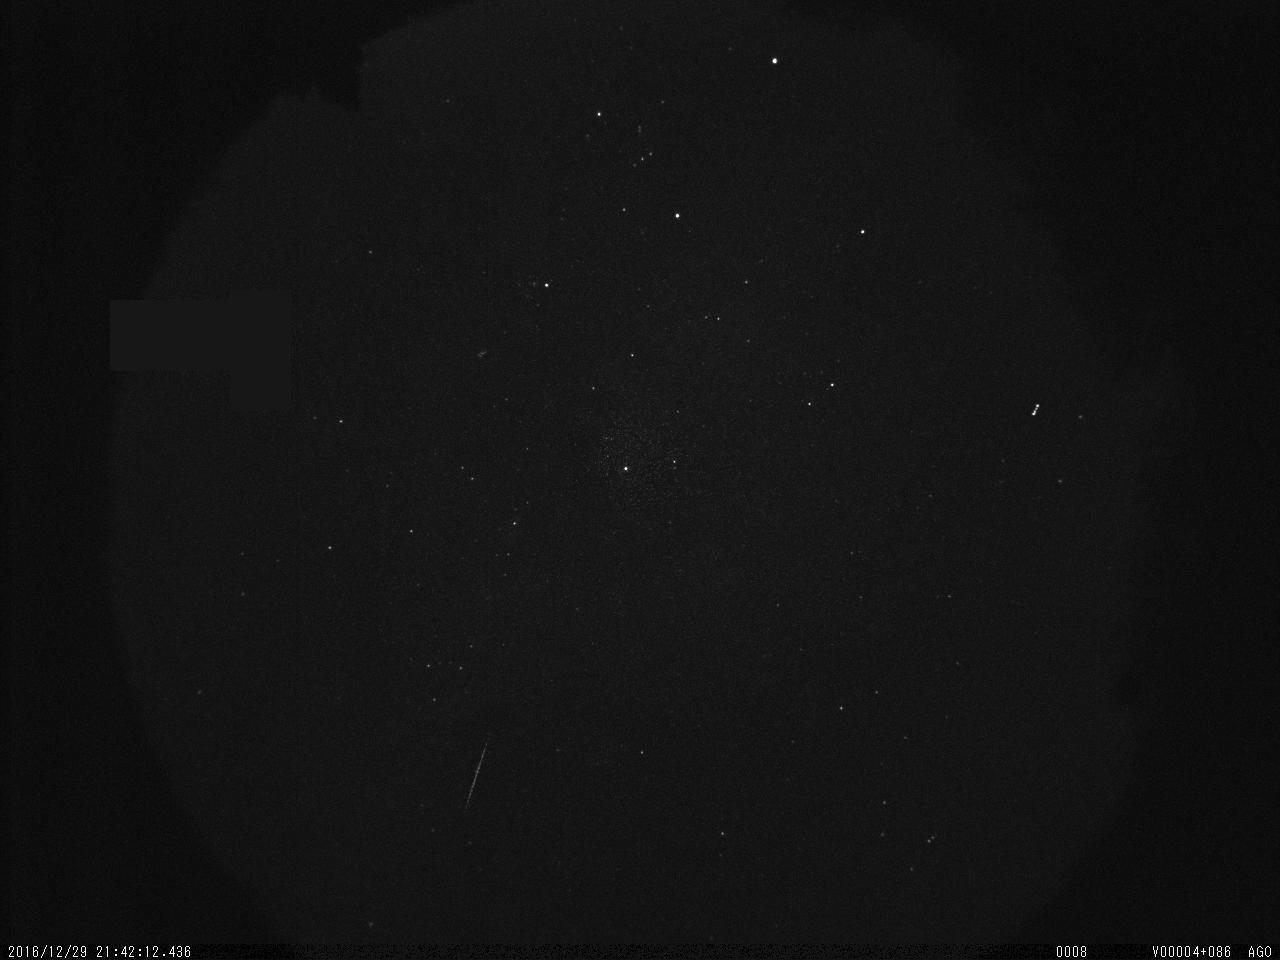Meteor: (461, 735, 494, 812)
